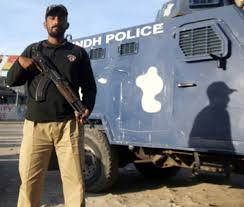gun: (21, 44, 87, 120)
uniform: (9, 36, 97, 198)
